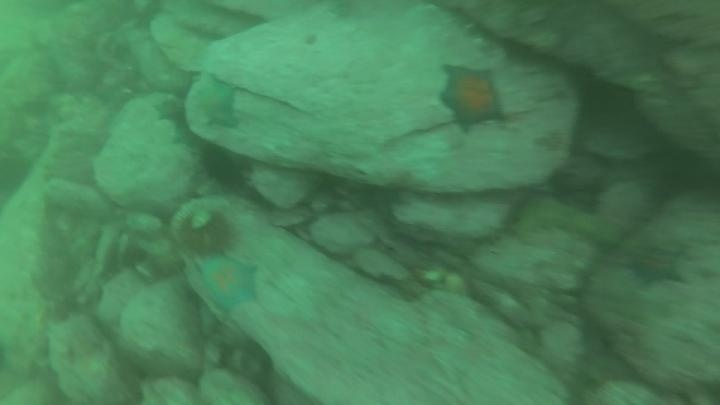echinus: (171, 201, 240, 259), (197, 142, 249, 191), (0, 146, 34, 205)
holothurian: (509, 194, 620, 249)
starfish: (435, 62, 508, 136), (193, 252, 262, 315), (185, 73, 245, 137), (624, 244, 690, 290), (151, 95, 186, 131)
